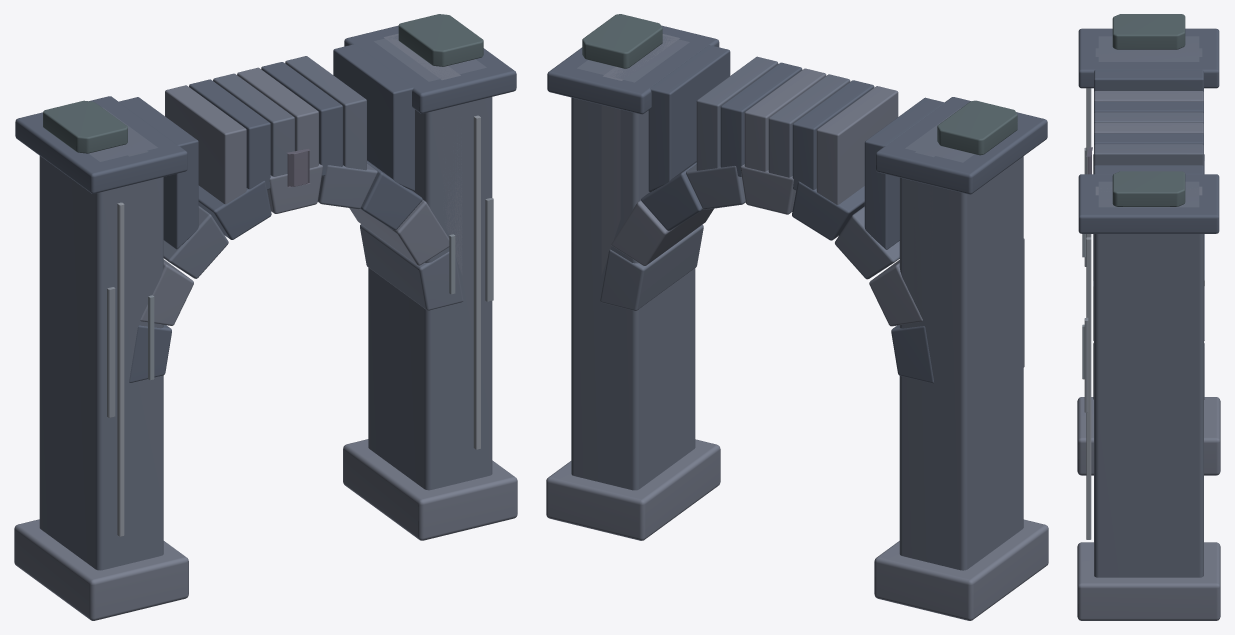
File: BG_ENV_INNER_ARCH_001.glb
3 views of the same model, side by side, from view 1: azimuth 30°, elevation 25°; view 2: azimuth 150°, elevation 25°; view 3: azimuth 270°, elevation 25° (orthographic). The views are drawn at different scales.
Visible parts, largest first — view 1: BG_ENV_INNER_ARCH_001_mesh, Cold silver interrupted frame -1_game, Cold silver interrupted frame 1_game; view 2: BG_ENV_INNER_ARCH_001_mesh; view 3: BG_ENV_INNER_ARCH_001_mesh, Cold silver interrupted frame 1_game.
Part boxes in pixels (bbox=[...]): BG_ENV_INNER_ARCH_001_mesh: bbox=[14, 14, 517, 620]; Cold silver interrupted frame -1_game: bbox=[107, 287, 115, 417]; Cold silver interrupted frame 1_game: bbox=[485, 198, 493, 301]; BG_ENV_INNER_ARCH_001_mesh: bbox=[546, 14, 1048, 620]; BG_ENV_INNER_ARCH_001_mesh: bbox=[1077, 14, 1220, 620]; Cold silver interrupted frame 1_game: bbox=[1084, 317, 1088, 412].
Bounding box in the file's own units: 2.16 × 2.26 × 0.69.
Materials: 3 (1 with a texture image).
